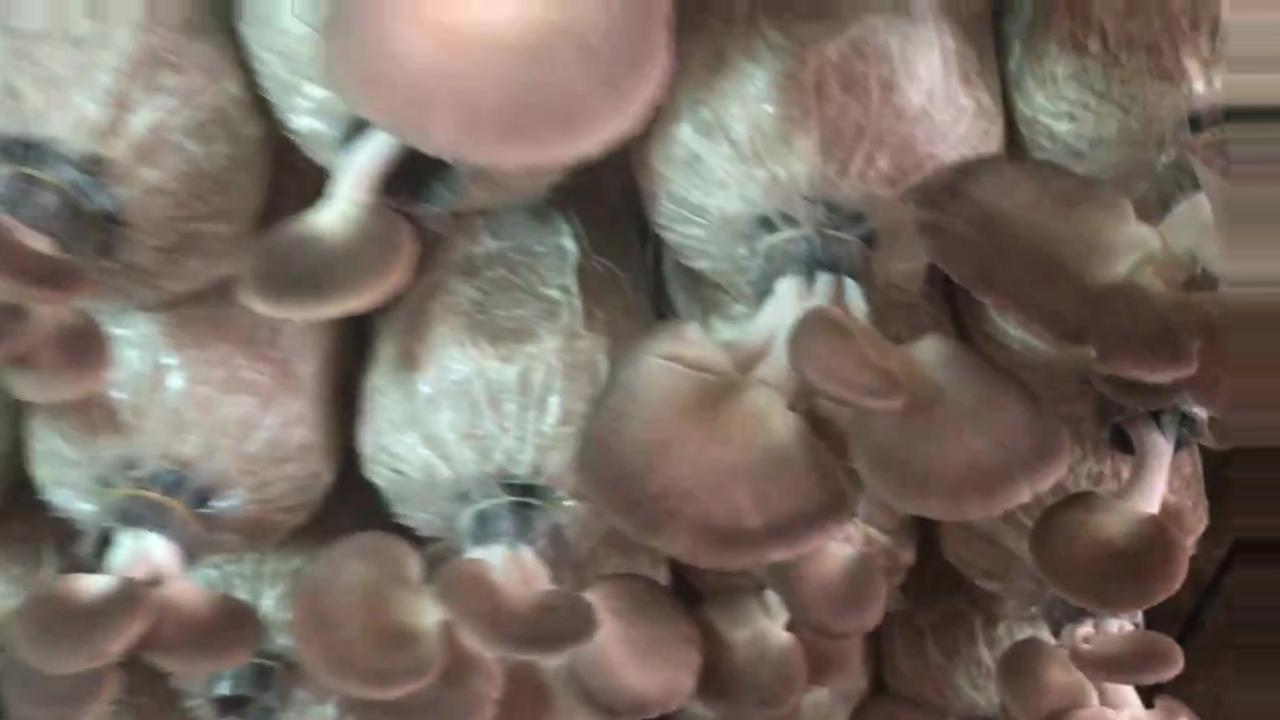nam: (580, 229, 1071, 567), (294, 503, 699, 720), (915, 159, 1279, 378), (1, 488, 256, 717), (330, 5, 671, 168), (235, 123, 458, 317), (1030, 395, 1215, 612), (5, 152, 112, 403), (1000, 591, 1182, 720), (688, 578, 811, 720), (784, 547, 884, 637)
